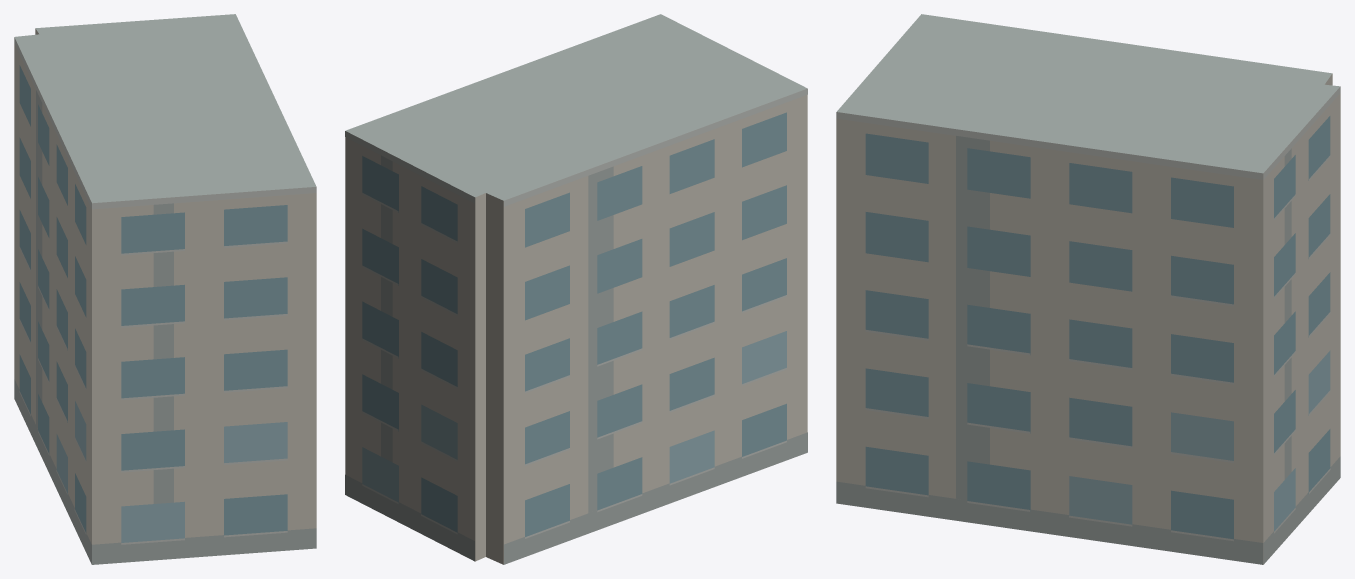
The model's file is survey-upis-32886795.glb.
3 renders of one model, left to right at view 1: azimuth 30°, elevation 25°; view 2: azimuth 150°, elevation 25°; view 3: azimuth 270°, elevation 25°, orthographic. The views are drawn at different scales.
Parts seen in each view (by area): view 1: survey-upis-32886795.tmp; view 2: survey-upis-32886795.tmp; view 3: survey-upis-32886795.tmp.
Part boxes in pixels (x1,y1,x2,y2): survey-upis-32886795.tmp: [14, 14, 316, 564]; survey-upis-32886795.tmp: [345, 14, 807, 564]; survey-upis-32886795.tmp: [836, 14, 1340, 564].
Size of the model in its own units: 12.54 by 14.35 by 16.75.
